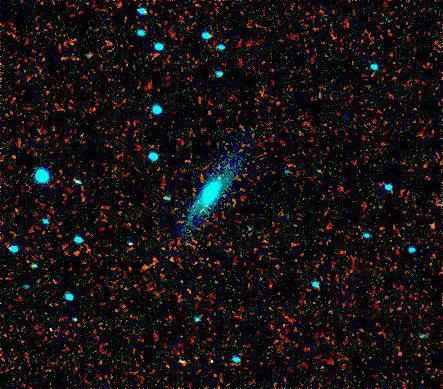star: (35, 317, 65, 347)
